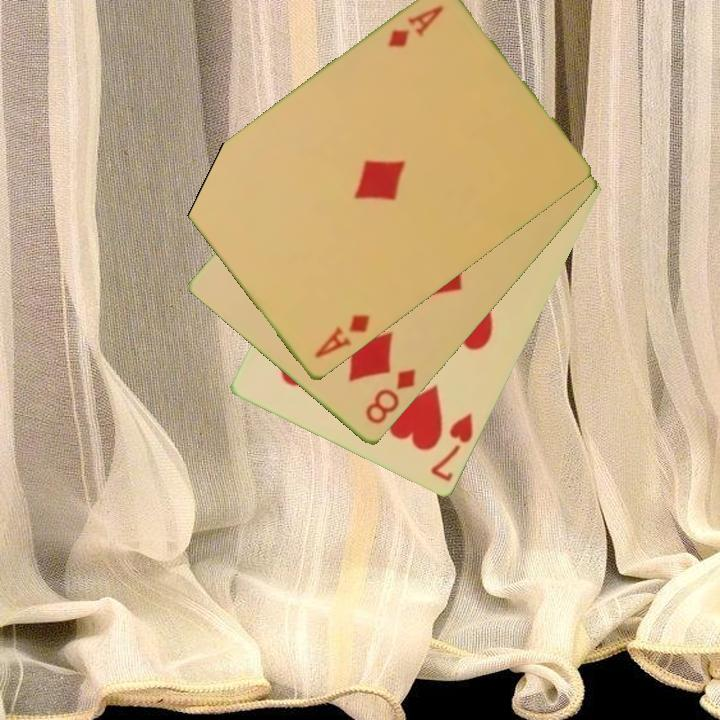7h: (427, 409, 477, 485)
8d: (361, 366, 419, 428)
Ad: (311, 311, 373, 362), (384, 3, 447, 51)
